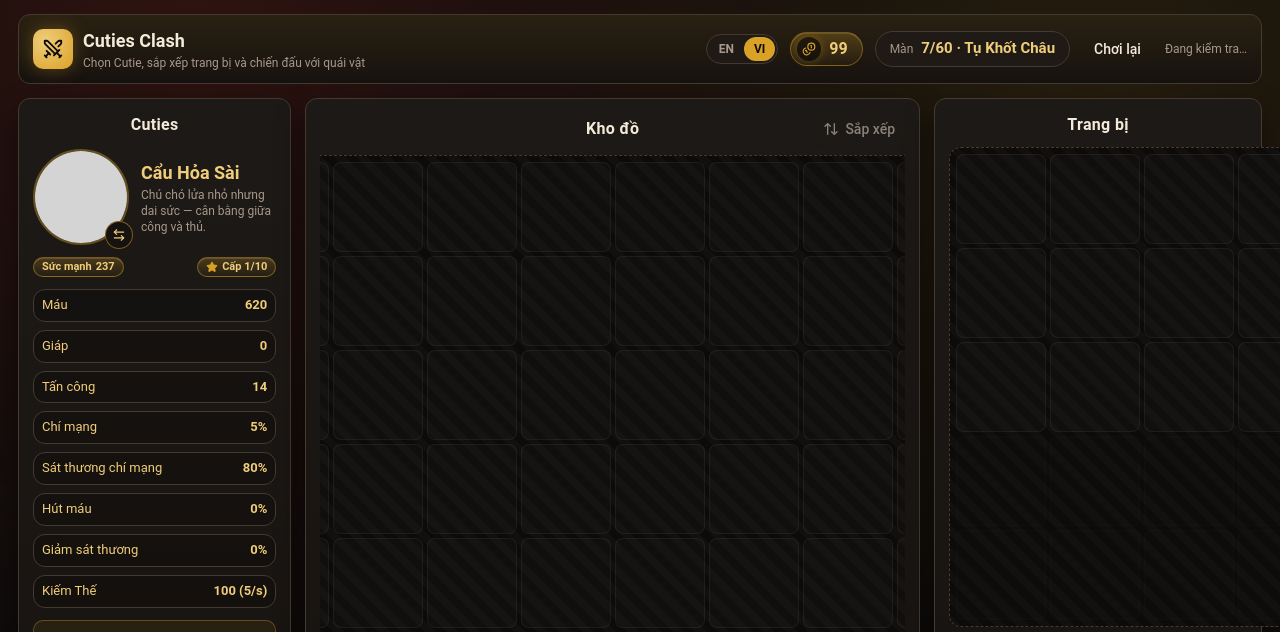
Test: restarting asks for confirmation › shows a dialog instead of resetting right away
The width and height of the screenshot is (1280, 632).
Click the button "Chơi lại". click: (1118,49)
box: [1082,33,1153,65]
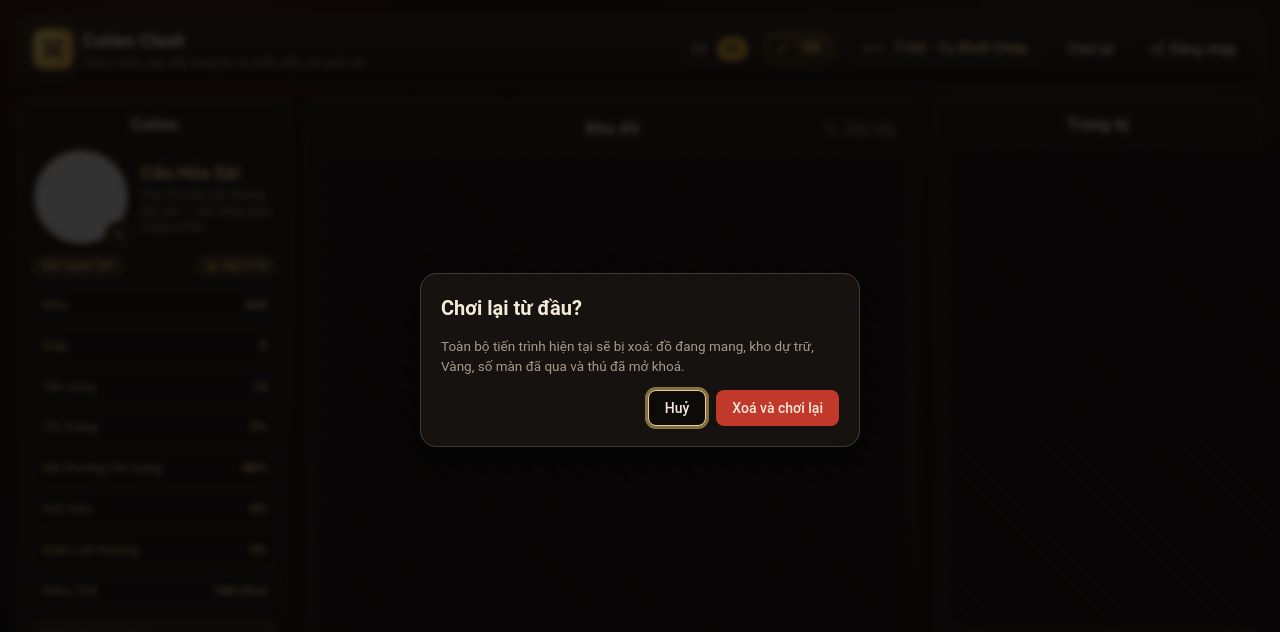
Expected: the dialog "Chơi lại từ đầu?" is shown, [420,273,860,447]
Expected: the text "bị xoá" is shown, [441,338,814,374]
